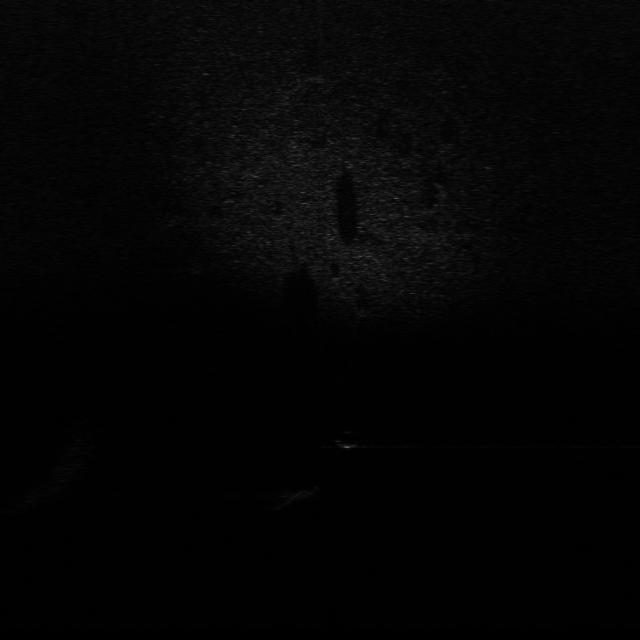ball: (329, 431, 362, 452)
square cage: (270, 480, 320, 509)
